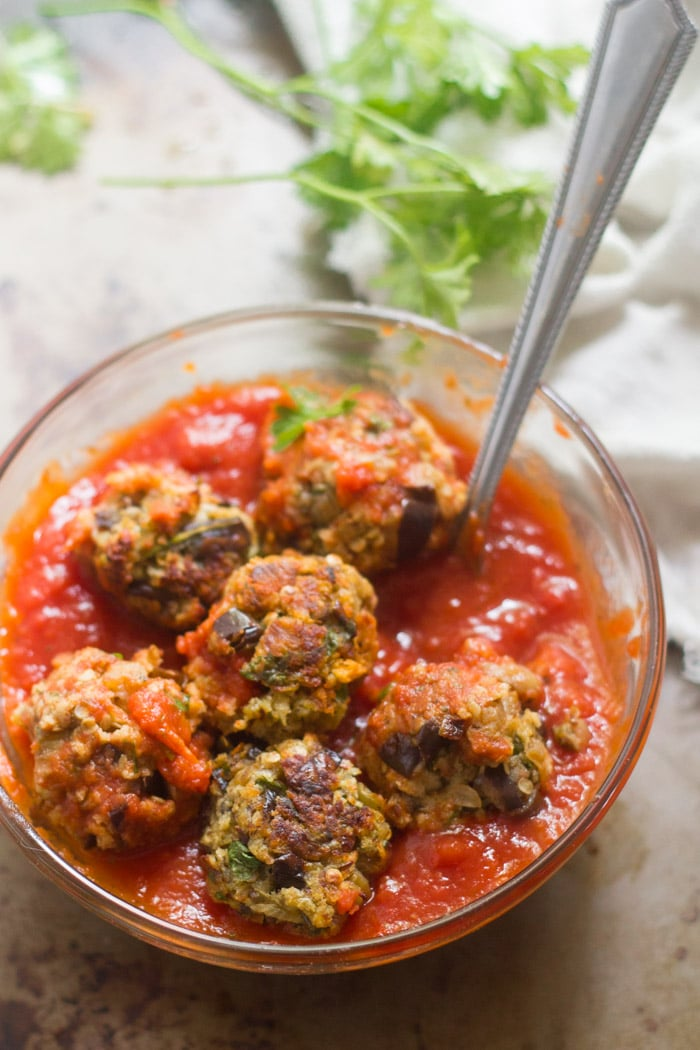meatballs: (20, 665, 209, 833), (197, 558, 376, 707), (223, 742, 372, 909), (381, 660, 558, 798), (274, 405, 443, 547), (102, 486, 237, 607)
